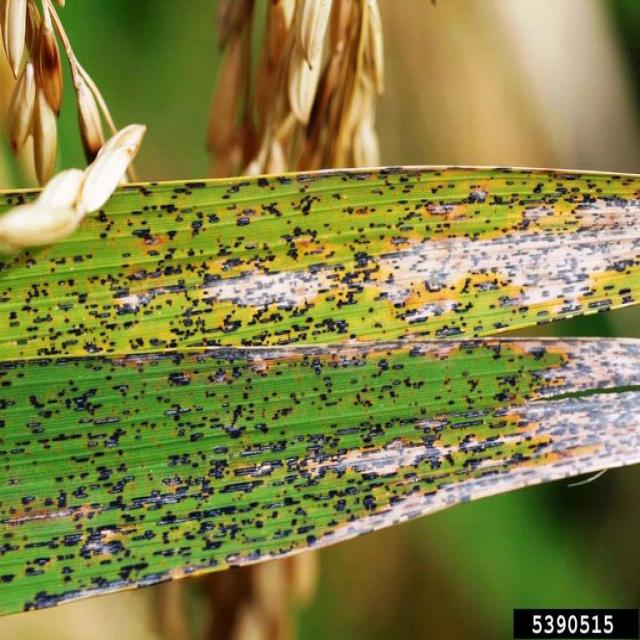Brown spot: (0, 166, 640, 620)
